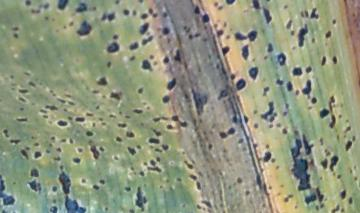tarspot: (292, 158, 312, 191), (190, 88, 208, 115), (1, 176, 15, 206), (64, 196, 87, 213), (134, 186, 147, 211), (301, 131, 314, 156), (297, 21, 308, 47), (59, 173, 71, 195), (289, 139, 302, 158), (262, 101, 275, 120), (27, 179, 41, 193), (77, 22, 91, 35), (247, 67, 259, 81), (264, 7, 273, 25), (236, 78, 246, 93), (302, 80, 312, 95), (106, 42, 119, 53), (241, 44, 249, 61), (90, 145, 99, 160), (141, 60, 152, 72), (75, 3, 88, 13), (139, 22, 149, 35), (235, 32, 248, 42), (248, 30, 258, 43), (29, 167, 40, 178), (319, 108, 330, 119), (141, 34, 153, 44), (330, 156, 338, 171), (328, 95, 335, 112), (167, 78, 176, 91), (222, 45, 231, 58), (201, 200, 214, 209), (277, 52, 286, 65), (310, 7, 319, 20), (173, 48, 181, 62), (255, 173, 262, 189), (183, 160, 194, 170), (218, 91, 228, 102), (292, 67, 303, 77), (110, 91, 122, 100), (305, 194, 317, 203), (316, 187, 323, 202), (286, 79, 294, 92), (129, 41, 139, 51), (152, 127, 162, 137), (20, 149, 29, 160), (126, 147, 137, 156), (250, 1, 261, 10), (148, 166, 162, 173), (263, 150, 271, 162), (108, 11, 116, 22), (217, 131, 228, 139), (262, 86, 270, 97), (320, 159, 328, 170), (344, 140, 352, 151), (46, 104, 58, 111), (285, 18, 292, 30), (161, 27, 170, 36), (58, 1, 68, 9), (97, 77, 107, 85), (226, 127, 236, 135), (148, 138, 161, 144), (330, 115, 336, 128), (57, 119, 68, 126), (201, 14, 209, 23), (9, 139, 21, 145), (189, 173, 198, 181), (310, 96, 318, 105), (330, 205, 339, 213), (193, 5, 200, 15), (22, 70, 32, 77), (2, 129, 9, 139), (195, 181, 202, 191), (75, 116, 86, 122), (243, 113, 249, 124), (340, 189, 346, 200), (321, 55, 327, 66), (15, 118, 28, 123), (140, 12, 148, 20), (171, 114, 179, 122), (324, 30, 332, 38), (100, 13, 107, 22), (162, 55, 169, 64), (165, 123, 174, 130), (28, 81, 37, 88), (39, 108, 48, 115), (85, 130, 94, 137), (72, 157, 81, 164), (33, 151, 42, 158), (126, 131, 135, 138), (117, 122, 127, 128), (18, 88, 28, 94), (153, 147, 163, 153), (224, 1, 236, 6), (310, 34, 316, 44), (180, 121, 188, 128), (67, 100, 75, 107), (161, 143, 169, 150), (149, 159, 156, 167), (236, 176, 243, 184), (232, 116, 239, 124), (277, 78, 284, 86), (344, 126, 352, 133), (305, 66, 312, 74), (106, 60, 112, 69), (57, 98, 66, 104), (18, 97, 27, 103), (282, 127, 288, 136), (267, 42, 273, 51), (133, 109, 143, 114), (348, 195, 353, 205), (162, 96, 169, 103), (98, 178, 105, 185), (252, 123, 259, 130), (282, 110, 289, 117), (153, 117, 161, 123), (115, 136, 123, 142), (314, 203, 320, 211), (332, 56, 338, 64), (299, 10, 305, 18), (331, 17, 337, 25), (108, 114, 117, 119), (319, 137, 324, 146), (12, 26, 19, 32), (43, 3, 50, 9), (183, 92, 189, 99), (162, 115, 169, 121), (253, 108, 259, 115), (319, 202, 325, 209), (283, 3, 289, 10), (91, 89, 99, 94), (148, 7, 153, 15), (86, 112, 94, 117), (50, 208, 58, 213), (128, 208, 136, 213), (290, 28, 295, 36), (305, 8, 309, 18), (129, 55, 135, 61), (123, 9, 129, 15), (162, 12, 168, 18), (217, 31, 223, 37), (101, 93, 107, 99), (63, 94, 72, 98), (91, 122, 97, 128), (56, 147, 62, 153), (77, 147, 83, 153), (99, 146, 105, 152), (81, 178, 87, 184), (196, 204, 202, 210), (244, 190, 250, 196), (288, 193, 294, 199), (276, 121, 282, 127), (269, 123, 275, 129), (290, 45, 296, 51), (31, 8, 36, 15), (112, 35, 119, 40), (194, 33, 201, 38), (67, 116, 74, 121), (69, 138, 74, 145), (142, 161, 149, 166), (208, 144, 213, 151), (1, 208, 8, 213), (52, 186, 57, 193), (124, 186, 131, 191), (140, 170, 145, 177), (175, 177, 182, 182), (271, 157, 276, 164), (265, 143, 270, 150), (253, 142, 258, 149), (295, 90, 300, 97), (133, 9, 137, 17), (53, 157, 61, 161), (26, 1, 32, 6), (14, 33, 19, 39), (36, 9, 41, 15), (45, 15, 50, 21), (69, 22, 74, 28), (92, 6, 97, 12), (138, 88, 143, 94), (60, 138, 66, 143), (50, 136, 56, 141), (26, 145, 31, 151), (34, 142, 40, 147), (136, 144, 142, 149), (230, 74, 235, 80), (12, 181, 17, 187), (93, 185, 99, 190), (130, 166, 135, 172), (158, 184, 164, 189), (238, 138, 244, 143), (283, 197, 289, 202), (285, 104, 290, 110), (294, 129, 299, 135), (325, 152, 331, 157), (217, 6, 224, 10), (124, 115, 131, 119), (18, 107, 25, 111), (42, 115, 49, 119), (157, 156, 161, 163), (337, 173, 341, 180), (276, 164, 280, 171), (352, 135, 356, 142), (153, 61, 158, 66), (182, 25, 187, 30), (95, 105, 100, 110), (146, 106, 151, 111), (49, 89, 54, 94), (63, 108, 68, 113), (46, 149, 51, 154), (48, 142, 53, 147), (59, 165, 64, 170), (113, 156, 118, 161), (181, 150, 186, 155), (353, 176, 358, 181), (263, 56, 268, 61), (150, 54, 154, 60), (189, 34, 193, 40), (341, 207, 345, 213), (337, 135, 340, 143), (349, 168, 353, 174), (306, 106, 312, 110), (224, 21, 227, 28), (63, 25, 67, 30), (115, 1, 120, 5), (153, 13, 158, 17), (142, 102, 147, 106), (101, 122, 106, 126), (98, 117, 103, 121), (11, 87, 16, 91), (169, 161, 174, 165), (104, 207, 109, 211), (268, 186, 273, 190), (270, 117, 275, 121), (274, 113, 278, 118), (338, 114, 342, 119), (214, 23, 217, 29), (214, 2, 218, 6), (118, 111, 122, 115), (10, 75, 14, 79), (294, 205, 298, 209), (52, 94, 57, 97), (227, 35, 230, 40), (11, 210, 16, 213), (31, 136, 34, 140), (138, 1, 143, 3), (53, 200, 56, 203), (267, 1, 272, 2)
